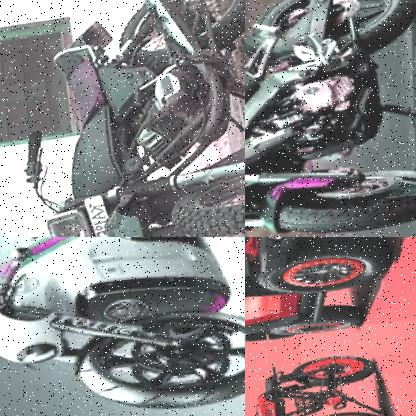bike: (6, 0, 245, 237), (0, 237, 245, 416), (245, 0, 416, 237), (245, 345, 401, 416)
car: (245, 237, 409, 362)
